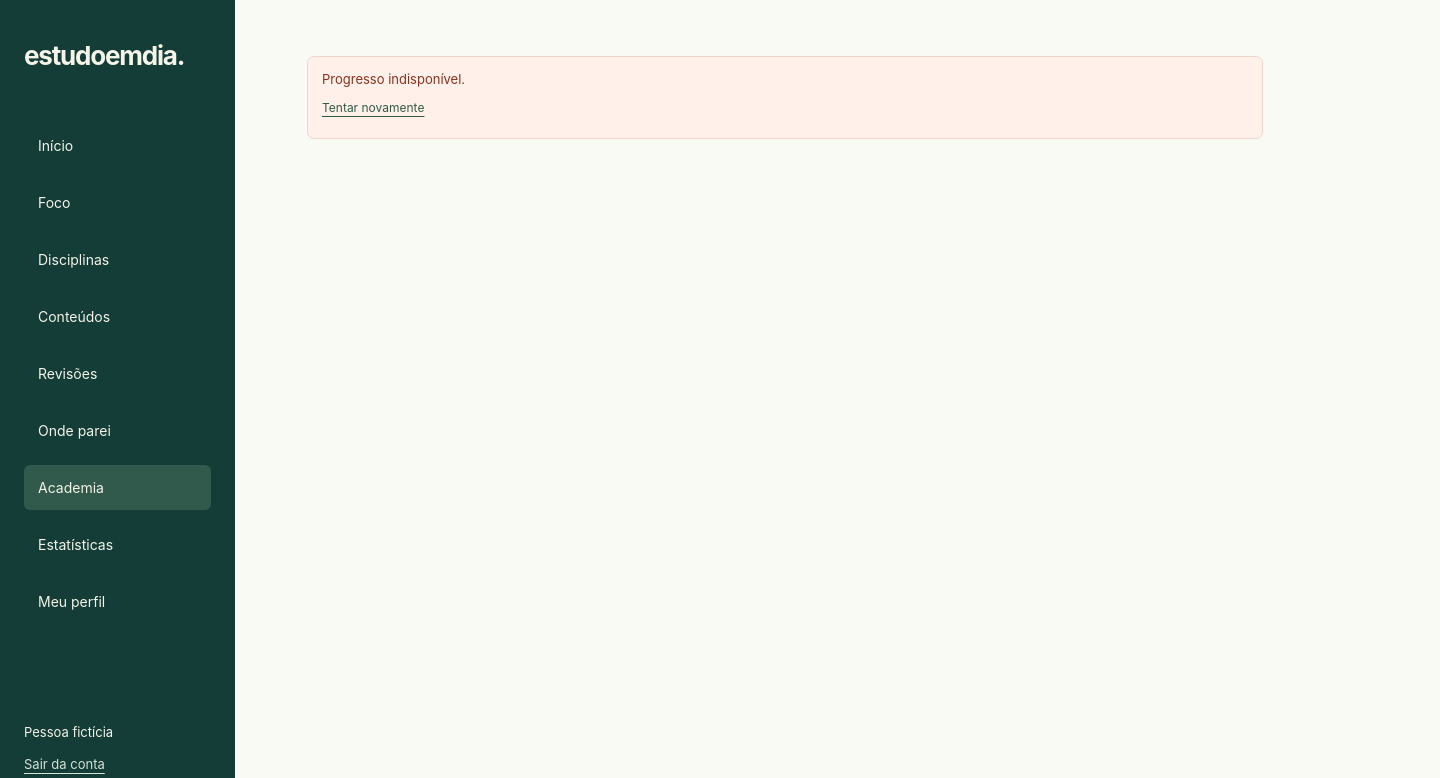
it: academia e estatísticas › carregamento/erro não vira XP zero fictício e permite tentar novamente
Expected: the message "Progresso indisponível." is shown, [322,71,465,87]
Click the button "Tentar novamente" at (373, 108), box [322,90,424,126]
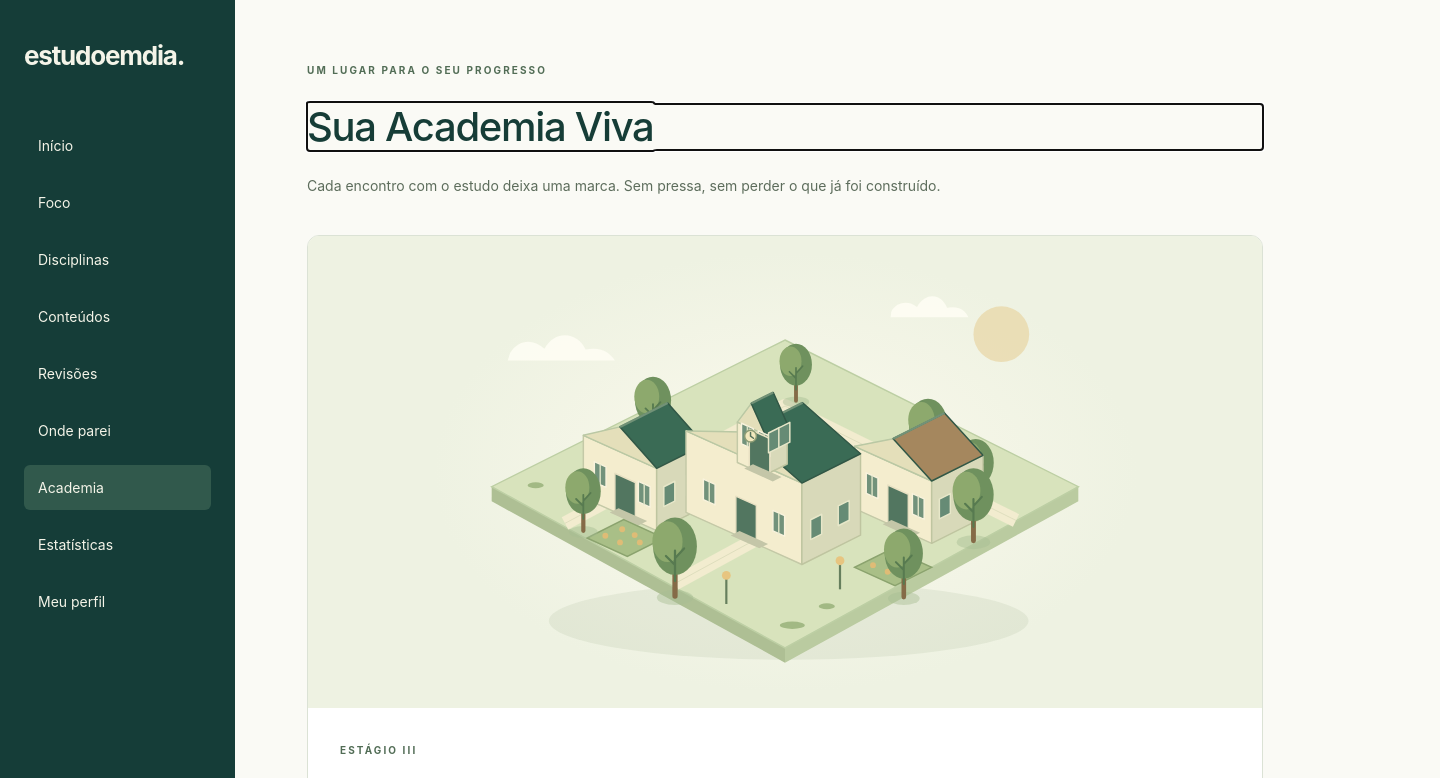
Now the picture named "estágio 3" is shown, box [324,252,1246,692]
